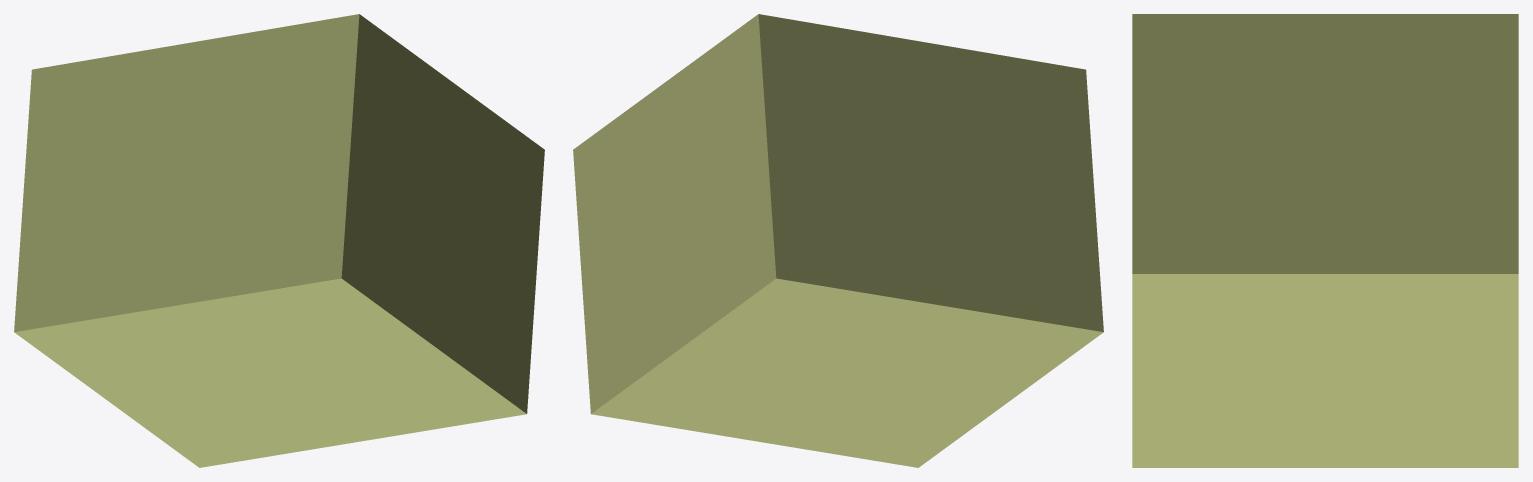
3 renders of one model, left to right at view 1: azimuth 30°, elevation 25°; view 2: azimuth 150°, elevation 25°; view 3: azimuth 270°, elevation 25°, orthographic. The views are drawn at different scales.
Visible parts, largest first — view 1: 0_1_3_2_2_1_0_2_3; view 2: 0_1_3_2_2_1_0_2_3; view 3: 0_1_3_2_2_1_0_2_3.
Boxes of the visible parts, bbox=[...] form: 0_1_3_2_2_1_0_2_3: bbox=[14, 14, 544, 467]; 0_1_3_2_2_1_0_2_3: bbox=[573, 14, 1103, 467]; 0_1_3_2_2_1_0_2_3: bbox=[1132, 14, 1518, 467].
Size of the model in its own units: 9.68 by 7.61 by 9.
